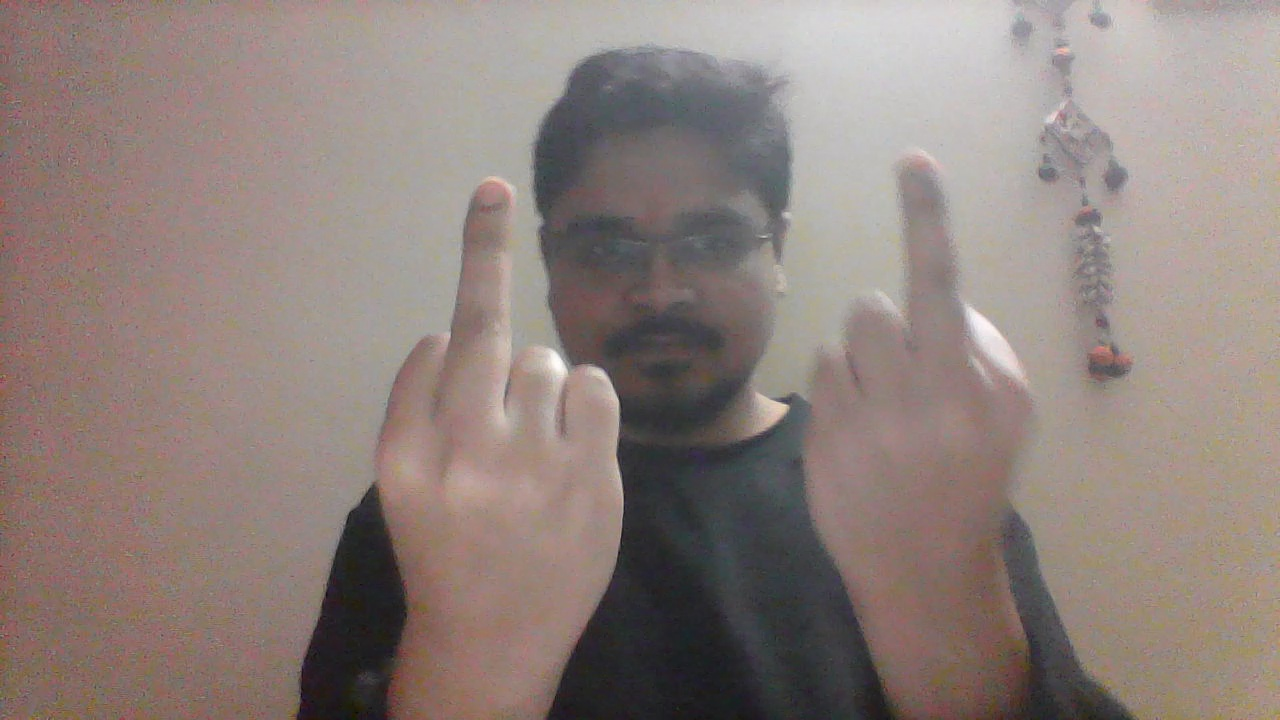Fuck Off: (370, 175, 623, 712)
